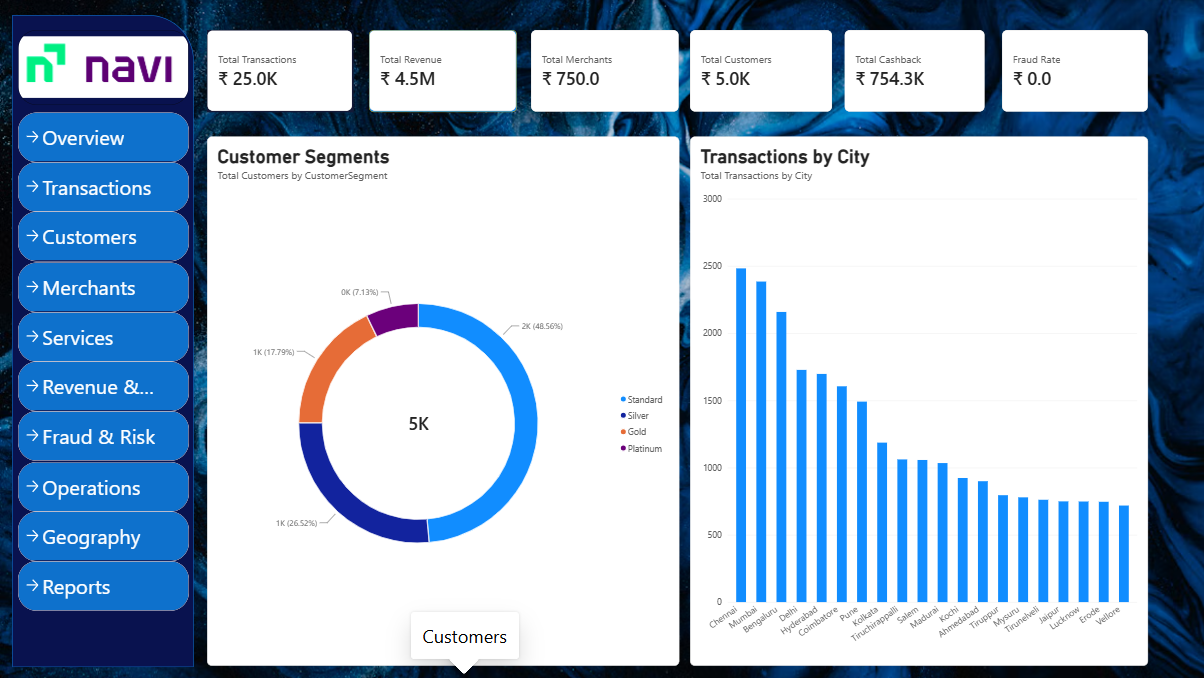

What the dashboard file says about the page in this screenshot:
{"tool":"powerbi","page":{"name":"Customers","canvas":[1920,1080],"ordinal":3},"visuals":[{"type":"cardVisual","fields":{"Data":["_Measures.Total Transactions"]},"box":[328.8,48.2,232.4,130.4],"z":0},{"type":"cardVisual","fields":{"Data":["_Measures.Total Revenue"]},"box":[586.8,48.2,235.3,130.4],"z":1000},{"type":"cardVisual","fields":{"Data":["_Measures.Total Merchants"]},"box":[844.7,48.2,235.3,130.4],"z":2000},{"type":"cardVisual","fields":{"Data":["_Measures.Total Customers"]},"box":[1097,48.2,226.8,130.4],"z":3000},{"type":"cardVisual","fields":{"Data":["_Measures.Total Cashback"]},"box":[1343.6,48.2,223.9,130.4],"z":4000},{"type":"cardVisual","fields":{"Data":["_Measures.Fraud Rate"]},"box":[1593.1,48.2,232.4,130.4],"z":5000},{"type":"donutChart","title":"Customer Segments","fields":{"Category":["DimCustomer.CustomerSegment"],"Y":["_Measures.Total Customers"]},"box":[328.8,218.3,751.2,841.9],"z":9000},{"type":"clusteredColumnChart","title":"Transactions by City","fields":{"Category":["DimCustomer.City"],"Y":["_Measures.Total Transactions"]},"box":[1097,218.3,728.5,841.9],"z":10000},{"type":"shape","box":[19.8,22.7,289.1,1037.5],"z":16000},{"type":"image","box":[28.3,48.2,272.1,119.1],"z":17000},{"type":"actionButton","box":[28.3,178.6,272.1,79.4],"z":18000},{"type":"actionButton","box":[28.3,258,272.1,79.4],"z":19000},{"type":"actionButton","box":[28.3,734.2,272.1,79.4],"z":20000},{"type":"actionButton","box":[28.3,654.8,272.1,79.4],"z":21000},{"type":"actionButton","box":[28.3,575.4,272.1,79.4],"z":22000},{"type":"actionButton","box":[28.3,337.3,272.1,79.4],"z":23000},{"type":"actionButton","box":[28.3,416.7,272.1,79.4],"z":24000},{"type":"actionButton","box":[28.3,496.1,272.1,79.4],"z":25000},{"type":"actionButton","box":[28.3,813.5,272.1,79.4],"z":26000},{"type":"actionButton","box":[28.3,892.9,272.1,79.4],"z":27000}]}

Visuals, with their boxes on the page's 1920x1080 design canvas (x1, y1, x2, y2). These are canvas units, not pixel positions in the 1204x678 screenshot, which may show the page scaled, cropped or inside an application window:
cardVisual - _Measures.Total Transactions: [x1=329, y1=48, x2=561, y2=179]
cardVisual - _Measures.Total Revenue: [x1=587, y1=48, x2=822, y2=179]
cardVisual - _Measures.Total Merchants: [x1=845, y1=48, x2=1080, y2=179]
cardVisual - _Measures.Total Customers: [x1=1097, y1=48, x2=1324, y2=179]
cardVisual - _Measures.Total Cashback: [x1=1344, y1=48, x2=1568, y2=179]
cardVisual - _Measures.Fraud Rate: [x1=1593, y1=48, x2=1826, y2=179]
"Customer Segments" donutChart: [x1=329, y1=218, x2=1080, y2=1060]
"Transactions by City" clusteredColumnChart: [x1=1097, y1=218, x2=1826, y2=1060]
shape: [x1=20, y1=23, x2=309, y2=1060]
image: [x1=28, y1=48, x2=300, y2=167]
actionButton: [x1=28, y1=179, x2=300, y2=258]
actionButton: [x1=28, y1=258, x2=300, y2=337]
actionButton: [x1=28, y1=734, x2=300, y2=814]
actionButton: [x1=28, y1=655, x2=300, y2=734]
actionButton: [x1=28, y1=575, x2=300, y2=655]
actionButton: [x1=28, y1=337, x2=300, y2=417]
actionButton: [x1=28, y1=417, x2=300, y2=496]
actionButton: [x1=28, y1=496, x2=300, y2=576]
actionButton: [x1=28, y1=814, x2=300, y2=893]
actionButton: [x1=28, y1=893, x2=300, y2=972]
